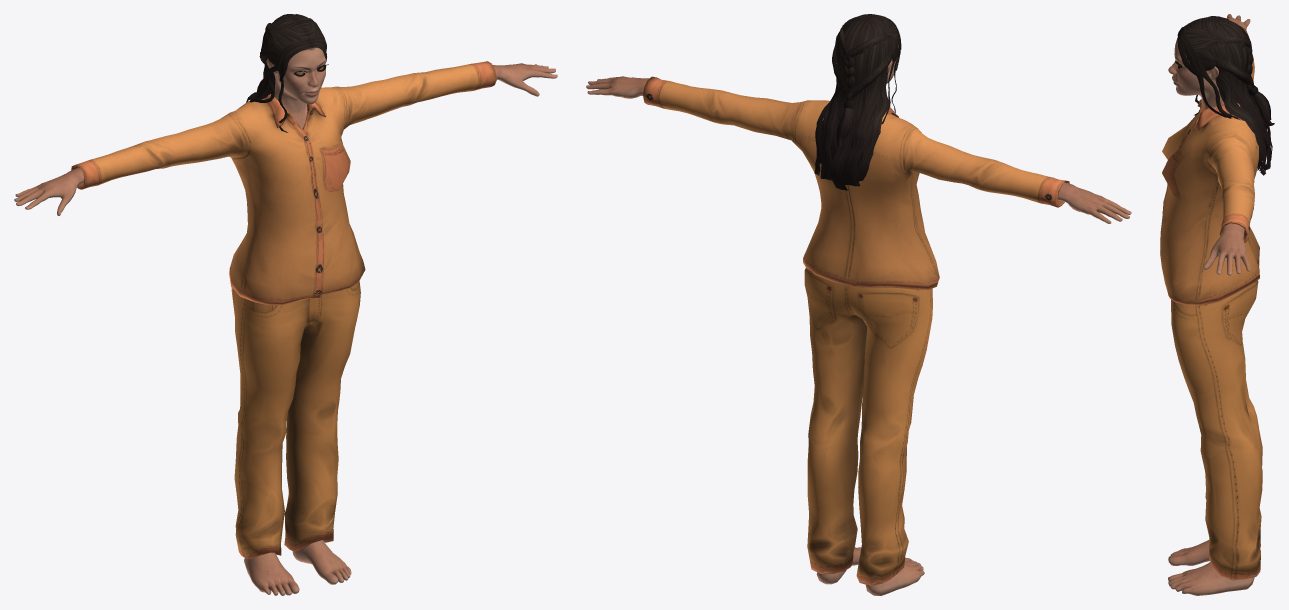
Rendered from Female D-Class 2.obj.
The picture shows the model from 3 angles, left to right: view 1: azimuth 30°, elevation 25°; view 2: azimuth 150°, elevation 25°; view 3: azimuth 270°, elevation 25°; orthographic projection.
Parts seen in each view (by area): view 1: Tops, Bottoms, Body, Hair; view 2: Bottoms, Tops, Hair, Body; view 3: Bottoms, Tops, Hair, Body.
Boxes of the visible parts, box(x1,y1,x2,y2) form: Tops: box(71, 61, 496, 305); Bottoms: box(231, 281, 360, 559); Body: box(14, 47, 557, 595); Hair: box(246, 14, 326, 132); Bottoms: box(804, 268, 932, 585); Tops: box(643, 76, 1069, 289); Hair: box(814, 14, 901, 190); Body: box(586, 45, 1131, 595); Bottoms: box(1171, 264, 1262, 580); Tops: box(1160, 25, 1259, 305); Hair: box(1177, 16, 1274, 175); Body: box(1168, 14, 1254, 595).
Size of the model in its own units: 179 by 177 by 32.99.
Materials: 4 (4 with a texture image).
